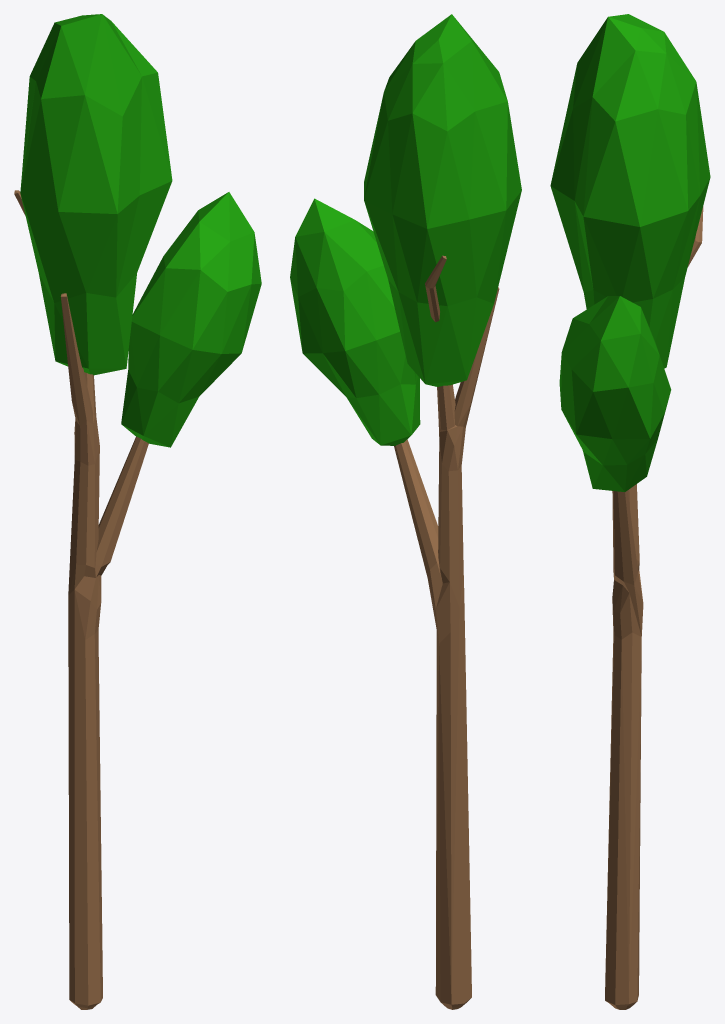
File: Tree_6.fbx
3 renders of one model, left to right at view 1: azimuth 30°, elevation 25°; view 2: azimuth 150°, elevation 25°; view 3: azimuth 270°, elevation 25°, orthographic.
Parts seen in each view (by area): view 1: Tree6_mesh; view 2: Tree6_mesh; view 3: Tree6_mesh.
Part boxes in pixels (x1,y1,x2,y2): Tree6_mesh: (14, 14, 261, 1009); Tree6_mesh: (290, 14, 521, 1009); Tree6_mesh: (550, 14, 710, 1009).
Size of the model in its own units: 153 by 657 by 95.84.
